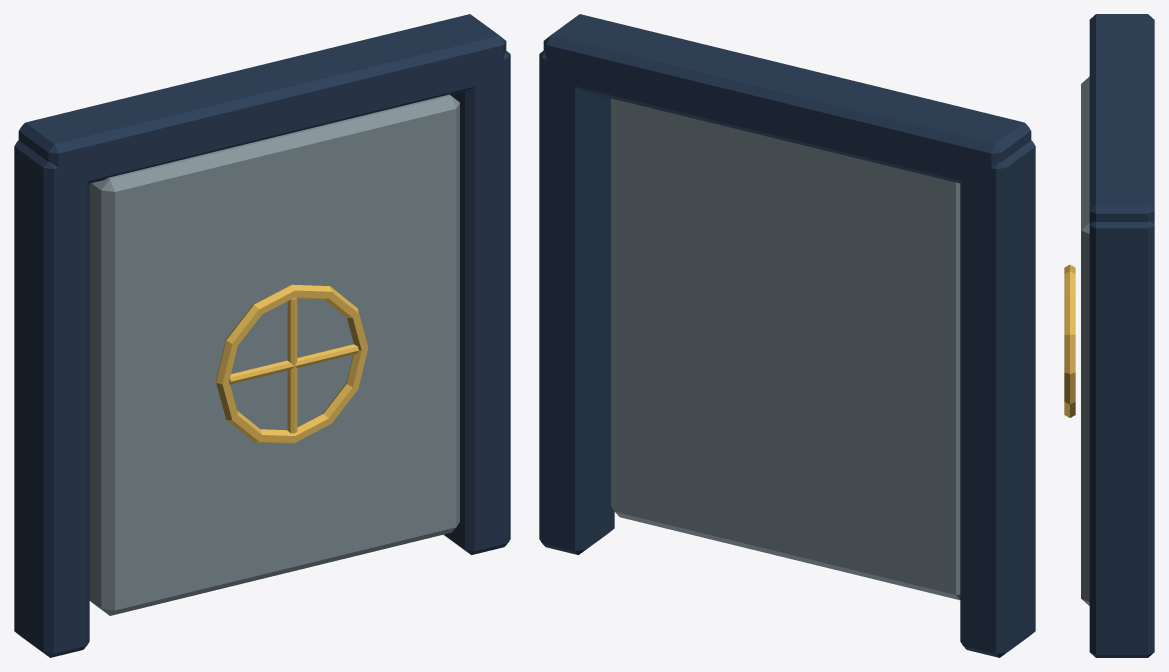
The model's file is Prop_VaultDoor.fbx.
The picture shows the model from 3 angles, left to right: view 1: azimuth 30°, elevation 25°; view 2: azimuth 150°, elevation 25°; view 3: azimuth 270°, elevation 25°; orthographic projection. The views are drawn at different scales.
Visible parts, largest first — view 1: Door.001, Frame.004, Header, Frame.005, LockWheel, WheelSpoke.001, WheelSpoke; view 2: Door.001, Frame.004, Header, Frame.005; view 3: Frame.005, Header, Door.001, LockWheel.
Part boxes in pixels (x1,y1,x2,y2): Door.001: [89, 94, 459, 615]; Frame.004: [14, 140, 89, 657]; Header: [18, 14, 506, 185]; Frame.005: [444, 50, 510, 554]; LockWheel: [216, 284, 367, 443]; WheelSpoke.001: [287, 297, 297, 433]; WheelSpoke: [229, 344, 358, 384]; Door.001: [611, 98, 960, 600]; Frame.004: [960, 140, 1035, 657]; Header: [543, 14, 1031, 187]; Frame.005: [539, 50, 614, 554]; Frame.005: [1089, 221, 1154, 657]; Header: [1089, 14, 1154, 223]; Door.001: [1081, 76, 1089, 605]; LockWheel: [1064, 264, 1075, 417].
Bounding box in the file's own units: 2.55 × 2.67 × 0.4853.
